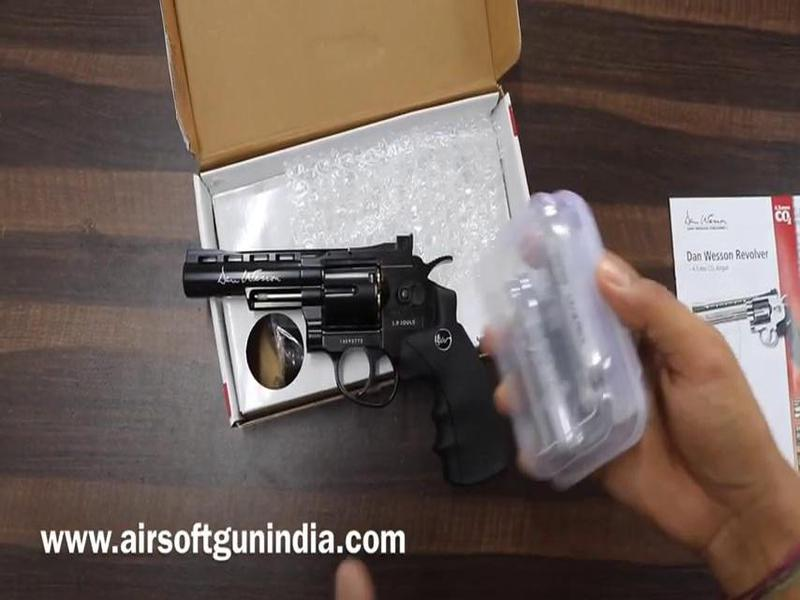Revolver: (174, 220, 524, 501)
